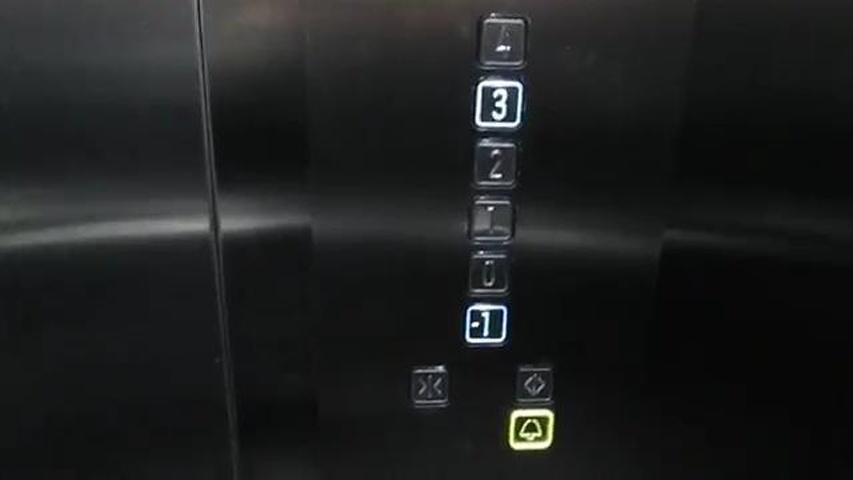-1: (463, 302, 509, 348)
0: (468, 250, 510, 298)
1: (468, 194, 516, 246)
2: (472, 137, 521, 192)
3: (471, 74, 528, 131)
4: (476, 12, 532, 70)
alarm: (508, 408, 554, 450)
close: (410, 365, 451, 408)
open: (514, 362, 555, 403)
